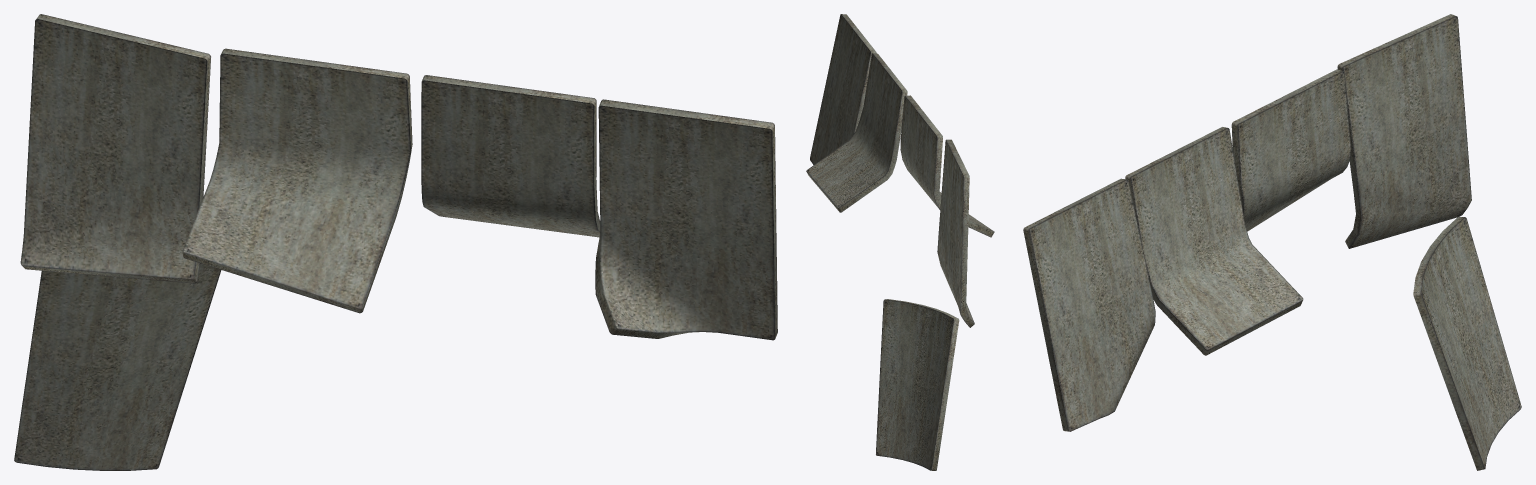
File: 04_03_lab_panels_hear_room_opening.dae
3 renders of one model, left to right at view 1: azimuth 30°, elevation 25°; view 2: azimuth 150°, elevation 25°; view 3: azimuth 270°, elevation 25°, orthographic. The views are drawn at different scales.
Visible parts, largest first — view 1: tunnel_exit_lab_panels; view 2: tunnel_exit_lab_panels; view 3: tunnel_exit_lab_panels.
Part boxes in pixels (x1,y1,x2,y2): tunnel_exit_lab_panels: [14, 14, 777, 470]; tunnel_exit_lab_panels: [806, 14, 994, 470]; tunnel_exit_lab_panels: [1023, 14, 1521, 470].
Size of the model in its own units: 3.61 by 3.3 by 3.7.
